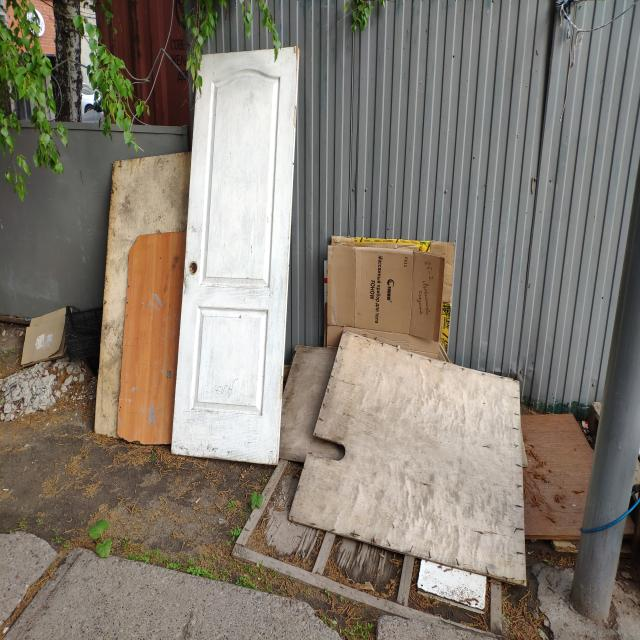entulho: (286, 332, 528, 590), (168, 46, 303, 468), (91, 154, 194, 436), (327, 232, 462, 343), (121, 231, 189, 441), (516, 402, 606, 544), (13, 300, 102, 372), (414, 558, 489, 614)
